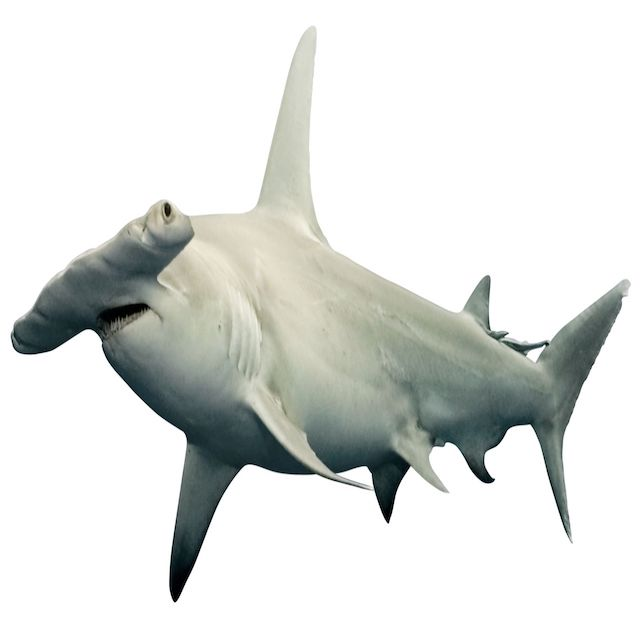hammerhead: (19, 127, 512, 511)
